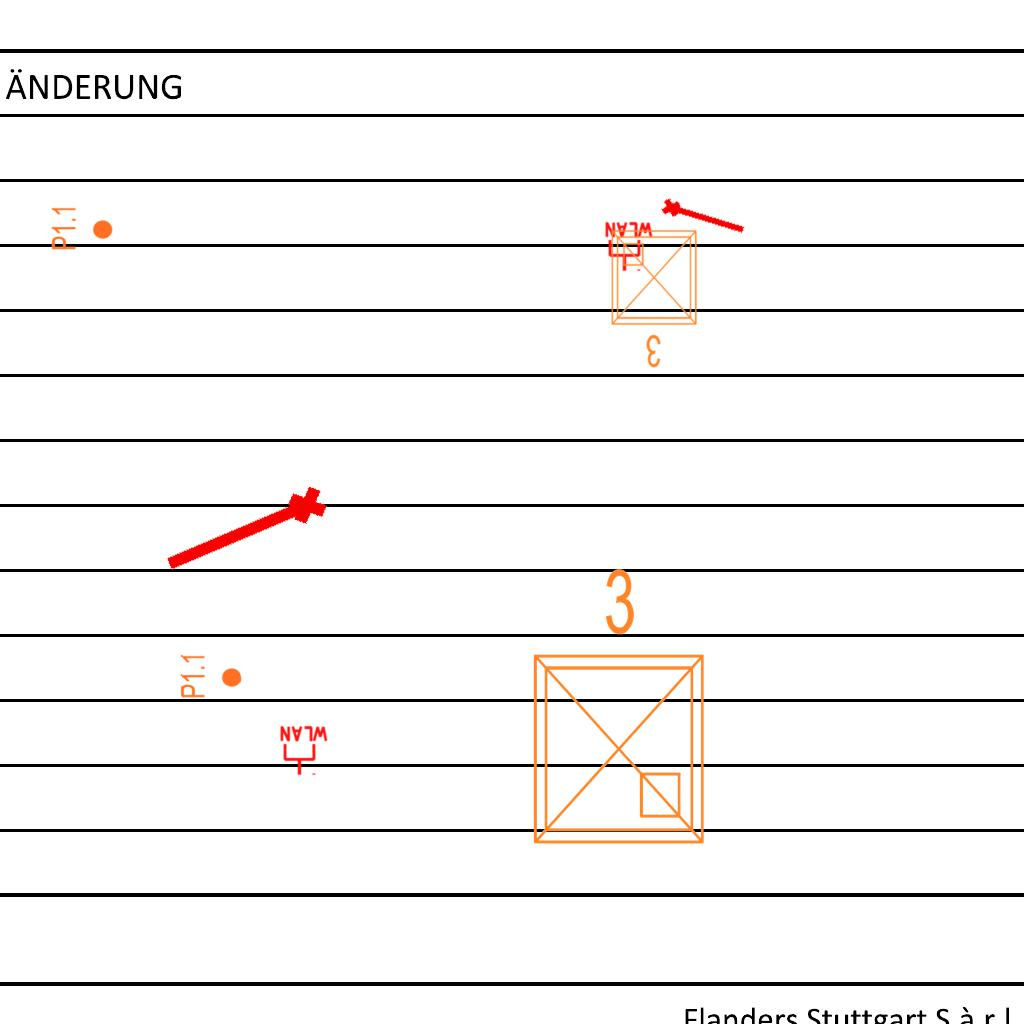ASR_Ansaugoeffnung: (156, 478, 336, 590), (658, 192, 750, 241)
Downlight_LED_Einbauleuchten_Flur: (178, 652, 244, 700), (50, 205, 114, 251)
Einbaudownlights_LED_Konferenzraeume: (511, 558, 719, 858), (604, 223, 708, 373)
WLAN: (278, 725, 330, 777), (603, 221, 655, 273)
